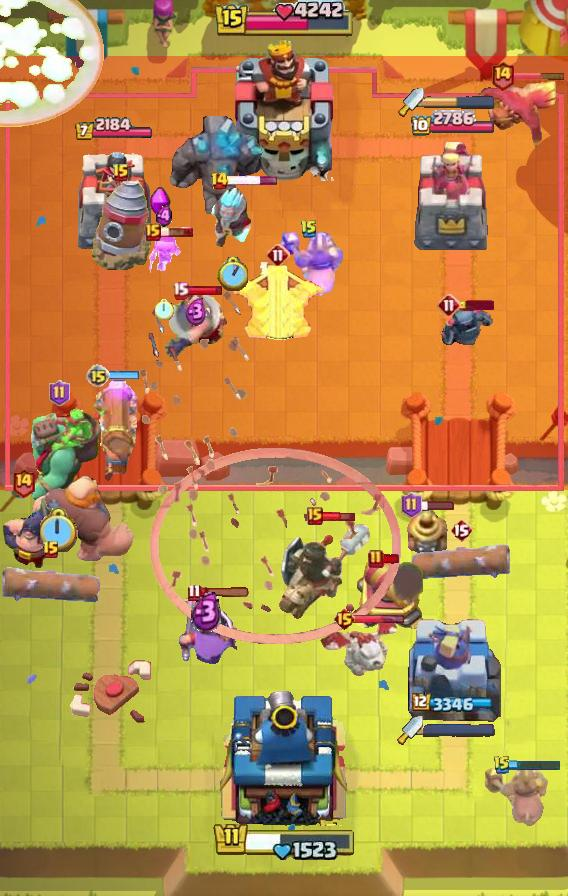balloon: (31, 473, 135, 565)
bar: (405, 611, 501, 731), (412, 140, 494, 256)
battle-healer: (92, 380, 138, 484)
battle-ram: (438, 304, 494, 350)
cannoneer-tower: (167, 116, 265, 218)
clock: (212, 818, 356, 860), (213, 0, 355, 40)
electro-spirit: (191, 592, 221, 633), (185, 297, 207, 327), (156, 205, 172, 227)
elixir: (40, 508, 78, 552), (217, 257, 248, 291), (154, 298, 173, 320)
elixir-golem-big: (175, 595, 237, 667)
emote: (509, 759, 563, 771), (225, 175, 279, 186), (199, 586, 251, 597), (353, 614, 405, 625), (512, 71, 566, 80), (320, 510, 355, 523), (158, 226, 194, 238), (419, 499, 455, 511), (187, 285, 225, 296), (107, 371, 141, 382), (458, 300, 494, 310), (383, 553, 402, 565)
freeze: (273, 229, 345, 299), (481, 763, 549, 827)
goblin: (146, 234, 182, 274)
goblin-drill: (403, 510, 449, 556)
inferno-dragon: (276, 521, 372, 623)
king-tower: (214, 684, 354, 826), (228, 35, 340, 181)
king-tower-bar: (424, 95, 496, 109), (423, 723, 495, 737)
lava-hound: (15, 406, 103, 504)
lava-pup: (229, 261, 327, 343)
magic-archer: (88, 176, 154, 274)
mini-pekka: (316, 616, 404, 676)
minion: (410, 539, 512, 583), (0, 562, 102, 606)
monk: (0, 493, 62, 571), (163, 293, 229, 359)
mortar: (208, 186, 256, 252)
mother-witch: (474, 73, 560, 157)
phoenix-big: (0, 1, 104, 128)
queen-tower: (71, 144, 157, 255)
royal-recruit: (354, 560, 426, 634)
selected: (410, 110, 496, 138), (74, 117, 154, 142), (413, 693, 496, 714)
skeleton-barrel: (138, 286, 402, 645)
skeleton-king-skill: (149, 186, 171, 220)
text: (490, 60, 515, 91), (12, 466, 37, 497), (266, 243, 290, 267), (437, 293, 461, 317), (86, 364, 110, 388), (333, 607, 356, 631), (50, 380, 71, 406), (401, 492, 422, 518), (450, 518, 472, 542), (210, 171, 230, 191), (112, 163, 130, 183), (300, 219, 318, 239), (42, 540, 60, 560), (493, 755, 511, 775), (171, 281, 188, 300), (368, 549, 384, 569), (145, 223, 161, 241), (307, 507, 323, 525), (186, 582, 201, 601)
